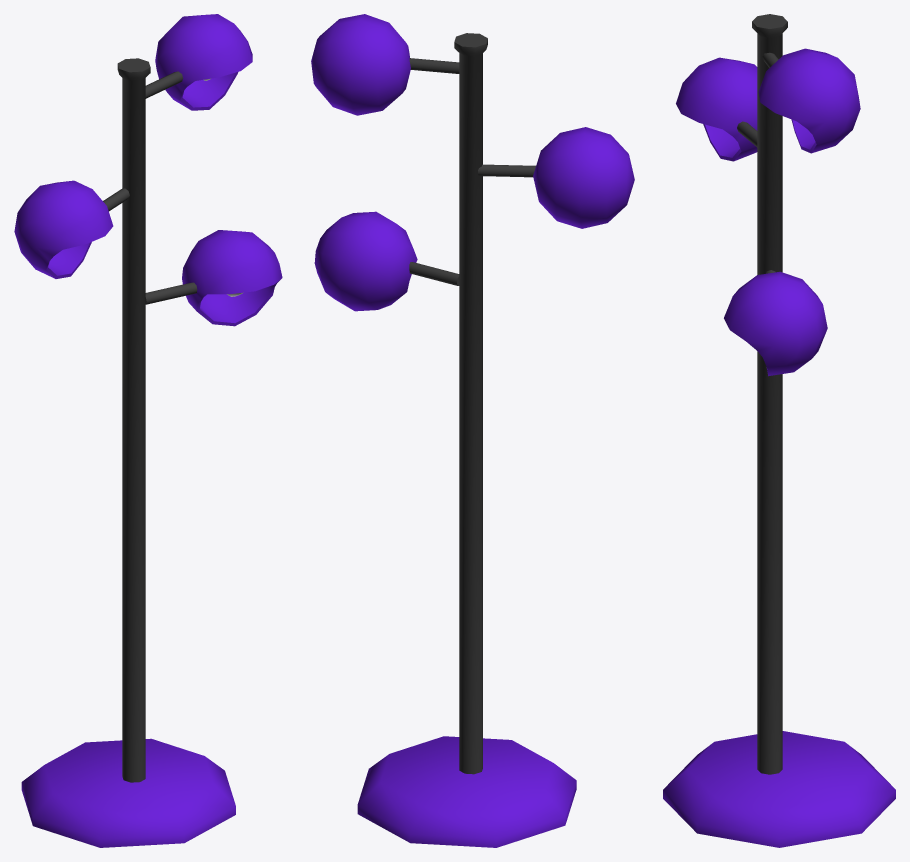
Rendered from Floor_Lamp_03.FBX.
The picture shows the model from 3 angles, left to right: view 1: azimuth 30°, elevation 25°; view 2: azimuth 150°, elevation 25°; view 3: azimuth 270°, elevation 25°; orthographic projection. The views are drawn at different scales.
Parts seen in each view (by area): view 1: Floor_Lamp; view 2: Floor_Lamp; view 3: Floor_Lamp.
Part boxes in pixels (x1,y1,x2,y2): Floor_Lamp: [14, 14, 282, 847]; Floor_Lamp: [311, 14, 634, 847]; Floor_Lamp: [663, 14, 895, 847].
Size of the model in its own units: 106 by 275 by 73.35.
